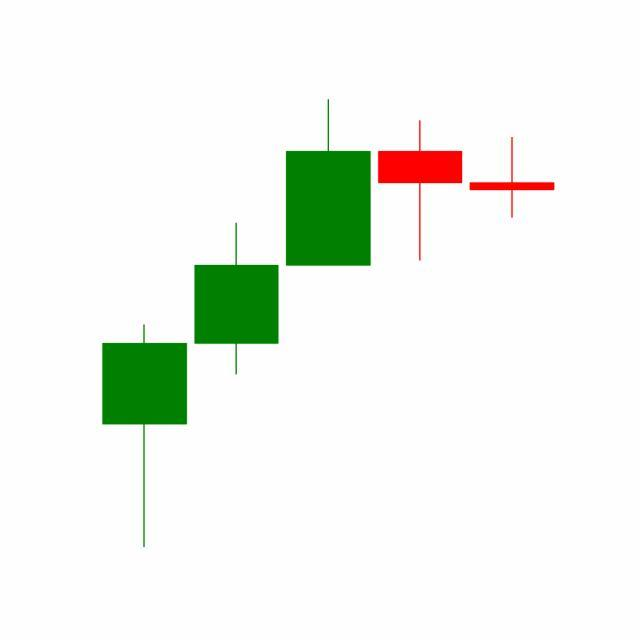Spinning Top: (374, 119, 468, 263)
